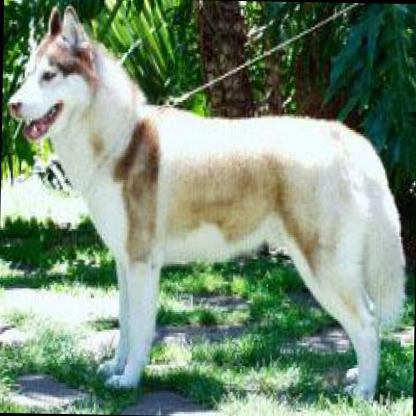malamute: (0, 3, 409, 403)
